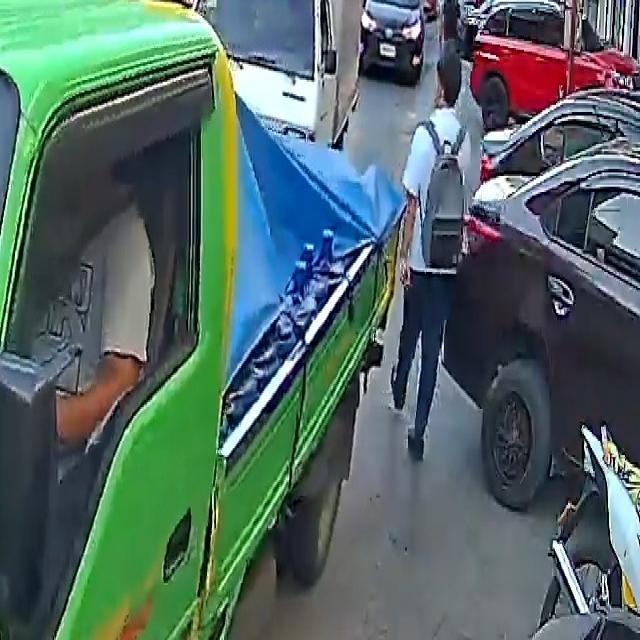car: (436, 78, 640, 514), (466, 2, 640, 137), (364, 0, 429, 76), (79, 0, 183, 9)
